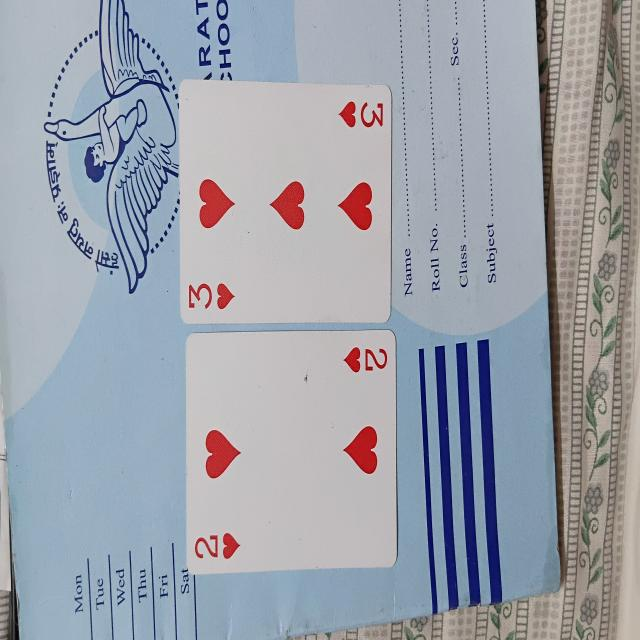2H: (185, 332, 398, 568)
3H: (179, 80, 392, 330)
